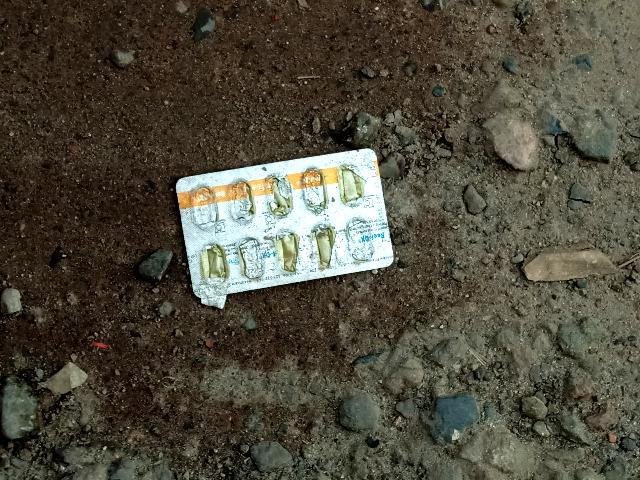medicine: (160, 112, 404, 314)
